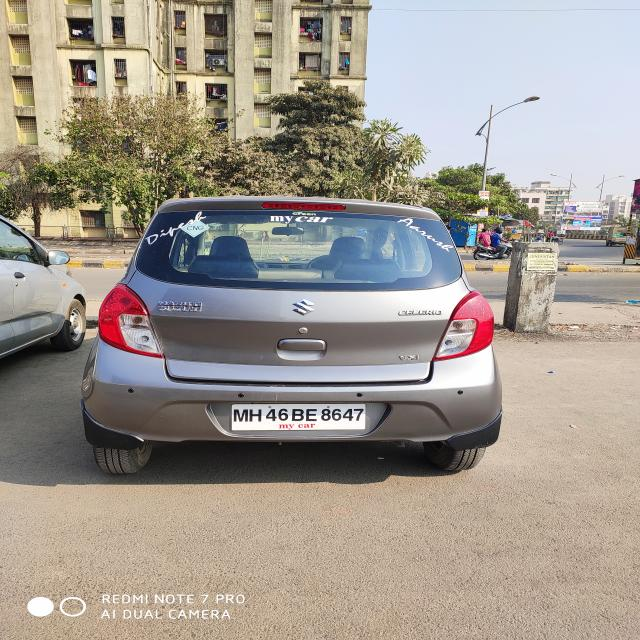Number-Plate: (235, 402, 363, 429)
